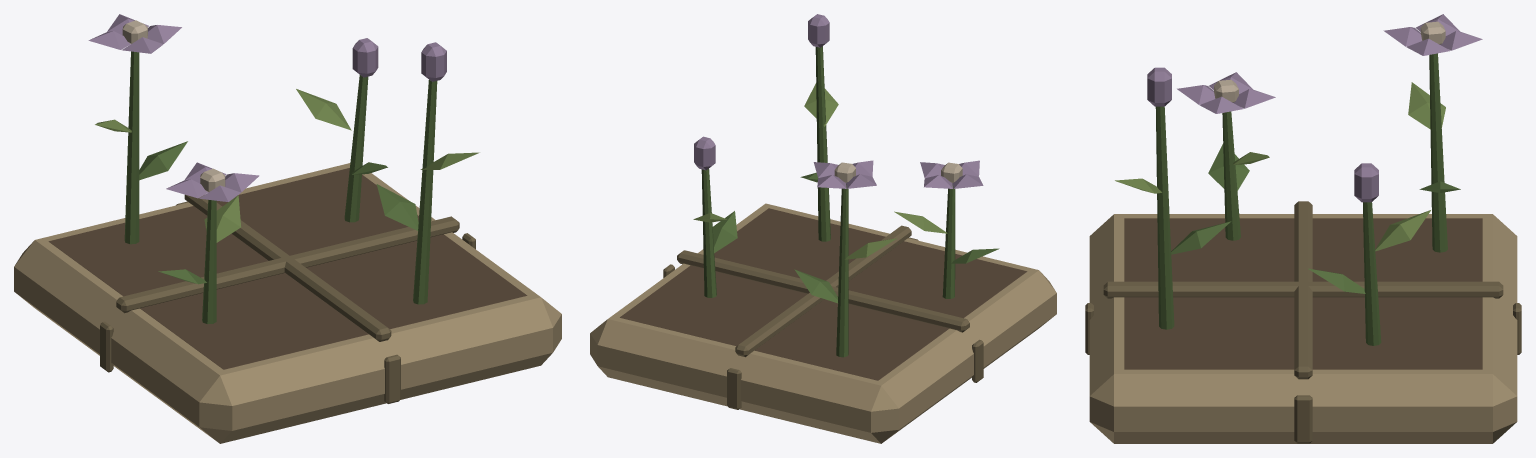
File: flowers_2_packed_spring.glb
3 renders of one model, left to right at view 1: azimuth 30°, elevation 25°; view 2: azimuth 150°, elevation 25°; view 3: azimuth 270°, elevation 25°, orthographic. The views are drawn at different scales.
Visible parts, largest first — view 1: flowers_2_packed_spring; view 2: flowers_2_packed_spring; view 3: flowers_2_packed_spring.
Boxes of the visible parts, x1=… form: flowers_2_packed_spring: x1=14, y1=14, x2=561, y2=443; flowers_2_packed_spring: x1=590, y1=14, x2=1056, y2=443; flowers_2_packed_spring: x1=1085, y1=14, x2=1521, y2=443.
Bounding box in the file's own units: 1.25 × 1.04 × 1.25.
